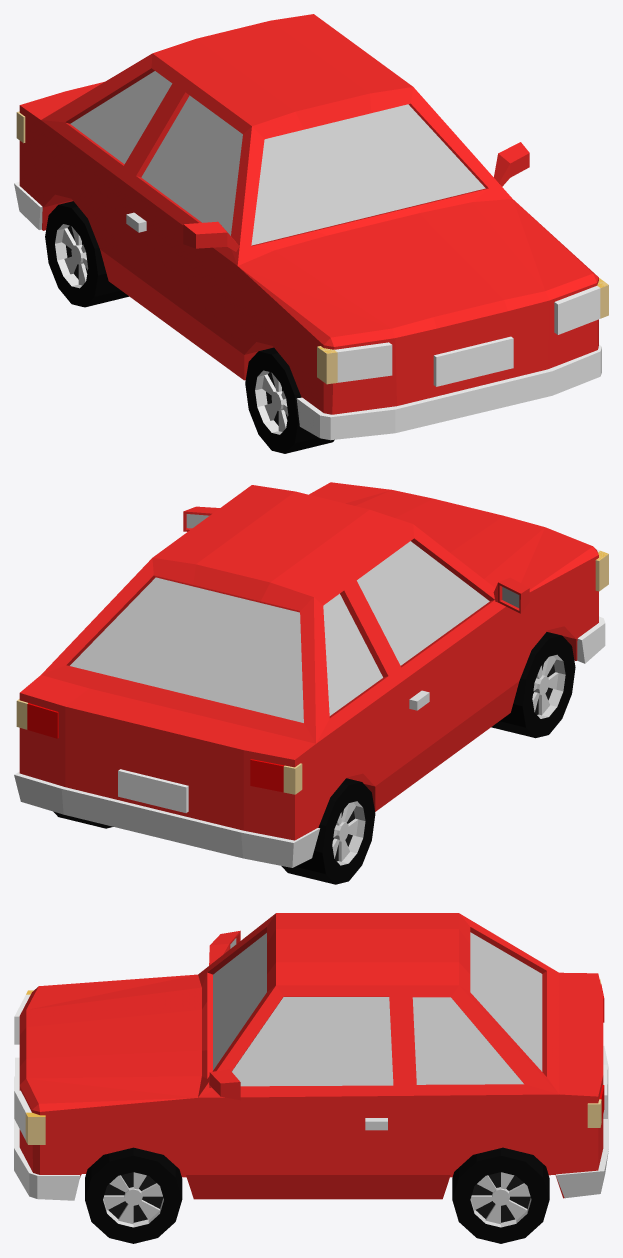
File: Car-12-B.fbx
The picture shows the model from 3 angles, top to bottom: view 1: azimuth 30°, elevation 25°; view 2: azimuth 150°, elevation 25°; view 3: azimuth 270°, elevation 25°; orthographic projection. The views are drawn at different scales.
Visible parts, largest first — view 1: Car-12, BR, FR, Head-Light, Light-Right; view 2: Car-12, BR, FR, Break-Light, Light-Right; view 3: Car-12, FL, BL, Light-Left, Head-Light.
Boxes of the visible parts, x1,y1,x2,y2 form: Car-12: [14, 14, 607, 440]; BR: [45, 201, 128, 307]; FR: [245, 347, 334, 453]; Head-Light: [334, 286, 600, 382]; Light-Right: [16, 111, 337, 384]; Car-12: [14, 482, 608, 867]; BR: [281, 778, 375, 884]; FR: [491, 632, 575, 738]; Break-Light: [27, 703, 284, 792]; Light-Right: [283, 550, 608, 794]; Car-12: [14, 913, 608, 1200]; FL: [85, 1147, 182, 1243]; BL: [452, 1147, 549, 1243]; Light-Left: [25, 1099, 601, 1144]; Head-Light: [14, 994, 31, 1139].
Size of the model in its own units: 2.45 by 1.79 by 4.08.
